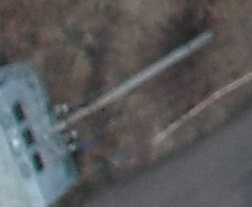opora: (49, 28, 213, 155)
